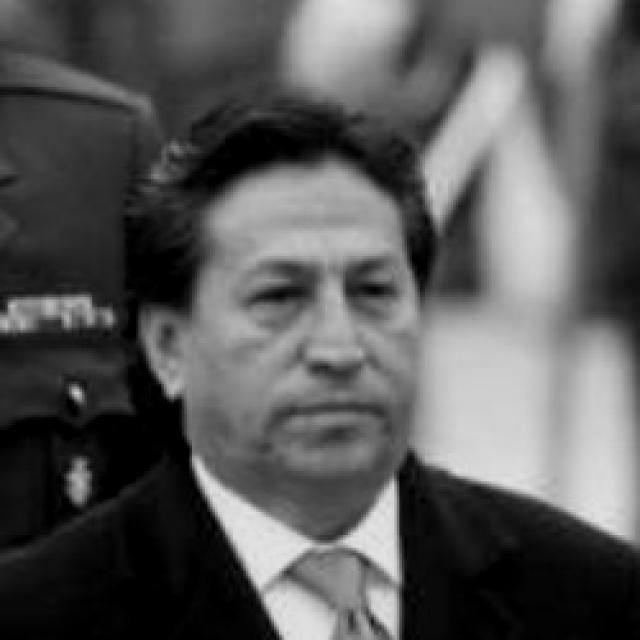real: (151, 121, 430, 496), (227, 266, 416, 318)
